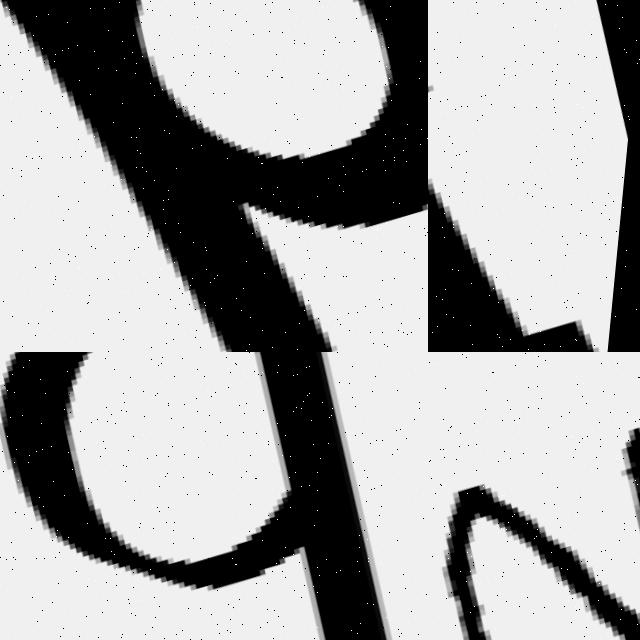F: (428, 0, 640, 352)
M: (428, 390, 640, 640)
P: (1, 352, 400, 640)
Q: (0, 0, 428, 352)
